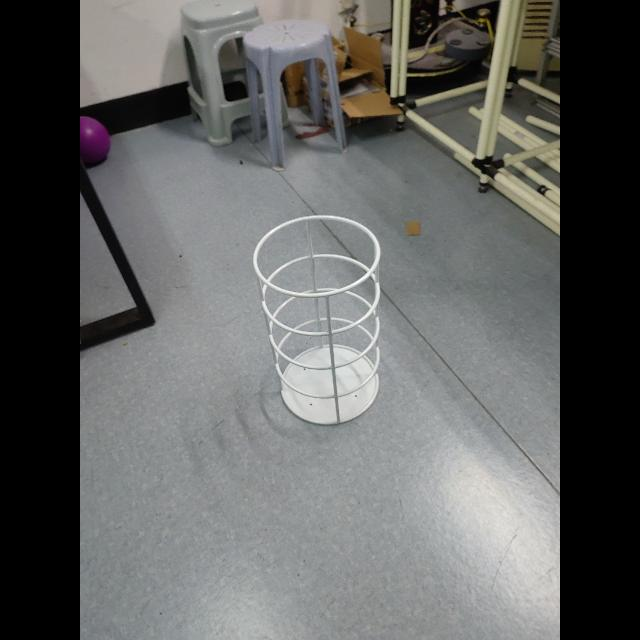S: (250, 212, 388, 430)
